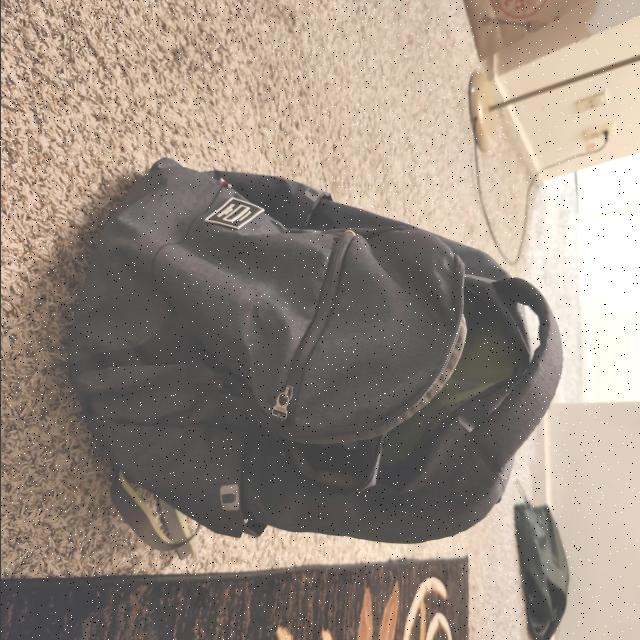bag: (98, 165, 540, 549)
